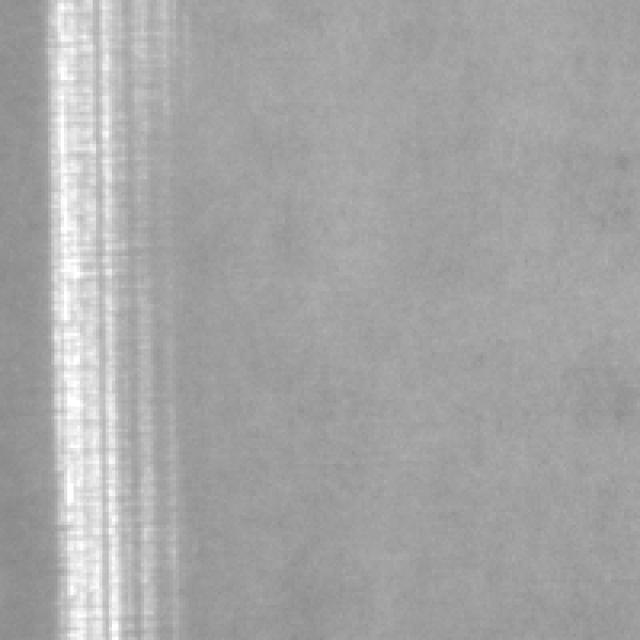scratches: (49, 1, 161, 635)
